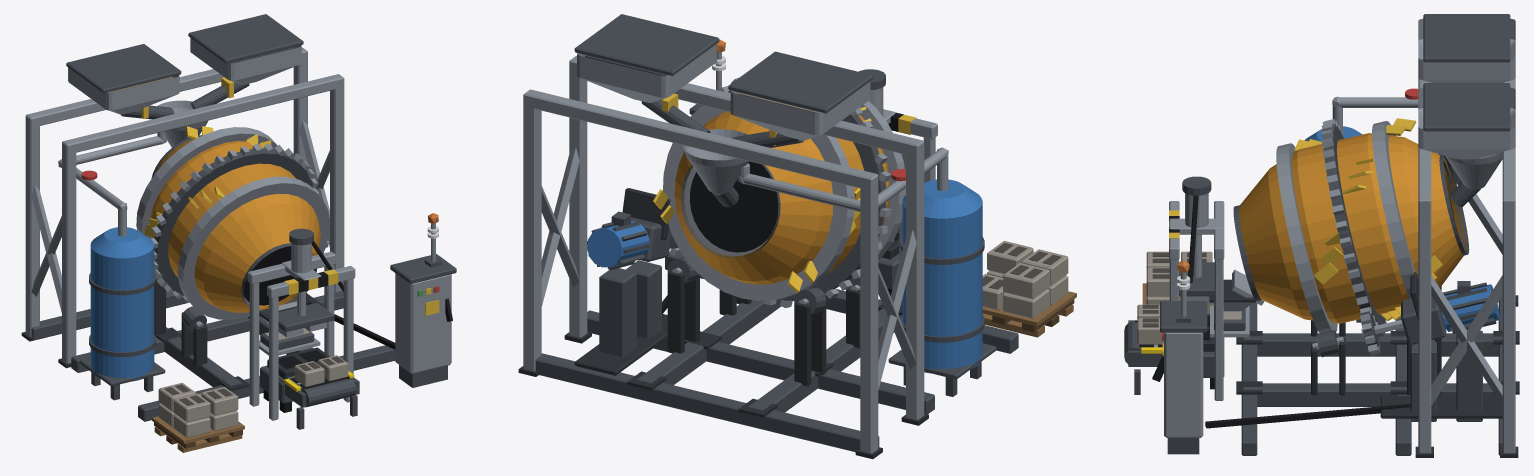
Rendered from betonniere_t2.glb.
The picture shows the model from 3 angles, left to right: view 1: azimuth 30°, elevation 25°; view 2: azimuth 150°, elevation 25°; view 3: azimuth 270°, elevation 25°; orthographic projection. The views are drawn at different scales.
Visible parts, largest first — view 1: pieces_acier.015, tambour_corps.002, pieces_acier_sombre.015, reservoir.002, armoire.008, tambour_bandage_0.003, tremie_bord_0.002, tremie_bord_-0.002, tambour_couronne.002, pieces_beton.004, pieces_fonte.015, tambour_bandage_1.004 (+14 smaller); view 2: pieces_acier.015, pieces_acier_sombre.015, pieces_fonte.015, tambour_corps.002, reservoir.002, tambour_bandage_1.004, tremie_bord_-0.002, tremie_bord_0.002, tambour_entree_fond.004, pieces_beton.004, tremie_-0.002, tremie_0.002 (+10 smaller); view 3: tambour_corps.002, pieces_acier.015, pieces_acier_sombre.015, pieces_fonte.015, tremie_bord_0.002, tremie_bord_-0.002, armoire.008, tambour_bandage_0.003, tremie_0.002, tambour_bandage_1.004, tremie_-0.002, pieces_noir.015 (+14 smaller).
Part boxes in pixels (left/top/right/bottom): pieces_acier.015: left=25, top=47, right=435, bottom=420; tambour_corps.002: left=150, top=139, right=320, bottom=312; pieces_acier_sombre.015: left=31, top=81, right=447, bottom=429; reservoir.002: left=90, top=246, right=154, bottom=381; armoire.008: left=395, top=273, right=451, bottom=374; tambour_bandage_0.003: left=177, top=176, right=330, bottom=319; tremie_bord_0.002: left=188, top=14, right=303, bottom=63; tremie_bord_-0.002: left=66, top=44, right=181, bottom=93; tambour_couronne.002: left=154, top=148, right=313, bottom=295; pieces_beton.004: left=158, top=382, right=238, bottom=437; pieces_fonte.015: left=21, top=278, right=329, bottom=390; tambour_bandage_1.004: left=136, top=127, right=277, bottom=238; pieces_acier.015: left=523, top=52, right=948, bottom=453; pieces_acier_sombre.015: left=535, top=69, right=1018, bottom=452; pieces_fonte.015: left=518, top=188, right=928, bottom=459; tambour_corps.002: left=674, top=111, right=889, bottom=284; reservoir.002: left=902, top=201, right=982, bottom=373; tambour_bandage_1.004: left=663, top=105, right=854, bottom=300; tremie_bord_-0.002: left=728, top=51, right=872, bottom=113; tremie_bord_0.002: left=574, top=14, right=719, bottom=76; tambour_entree_fond.004: left=689, top=161, right=778, bottom=252; pieces_beton.004: left=982, top=241, right=1068, bottom=318; tremie_-0.002: left=730, top=81, right=870, bottom=140; tremie_0.002: left=577, top=44, right=716, bottom=102; tambour_corps.002: left=1239, top=133, right=1466, bottom=323; pieces_acier.015: left=1154, top=78, right=1515, bottom=453; pieces_acier_sombre.015: left=1124, top=159, right=1502, bottom=455; pieces_fonte.015: left=1203, top=272, right=1519, bottom=457; tremie_bord_0.002: left=1423, top=83, right=1510, bottom=131; tremie_bord_-0.002: left=1423, top=14, right=1510, bottom=62; armoire.008: left=1164, top=332, right=1203, bottom=437; tambour_bandage_0.003: left=1276, top=143, right=1337, bottom=333; tremie_0.002: left=1418, top=87, right=1515, bottom=159; tambour_bandage_1.004: left=1372, top=121, right=1415, bottom=298; tremie_-0.002: left=1418, top=18, right=1515, bottom=82; pieces_noir.015: left=1135, top=195, right=1410, bottom=428.
Bounding box in the file's own units: 1.5 × 1.29 × 1.5.
